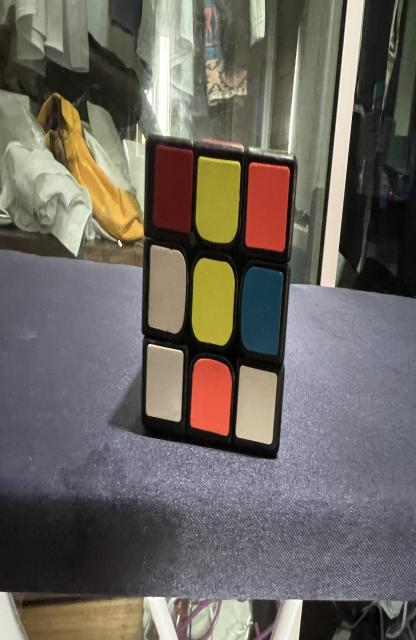Blue: (241, 267, 284, 355)
Orange: (245, 162, 290, 252), (190, 358, 232, 437)
Red: (153, 145, 193, 233)
White: (148, 245, 186, 333), (236, 365, 277, 445), (145, 343, 184, 422)
Yellow: (196, 157, 240, 243), (192, 258, 235, 345)
